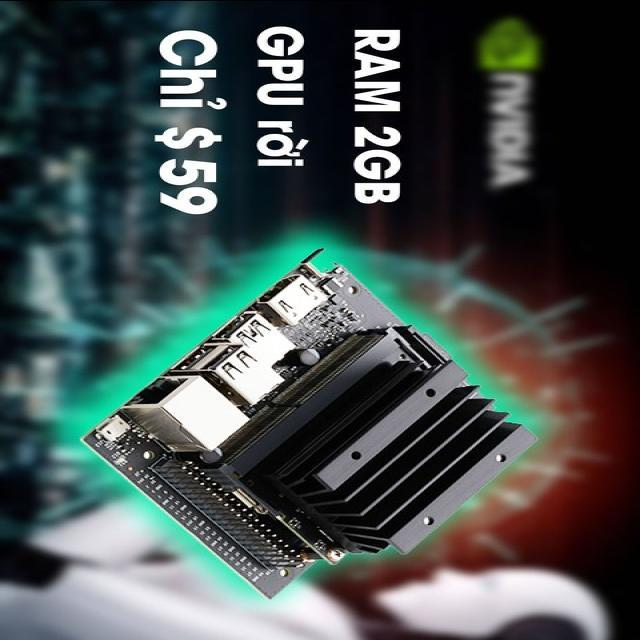Jetson Nano: (84, 248, 542, 601)
